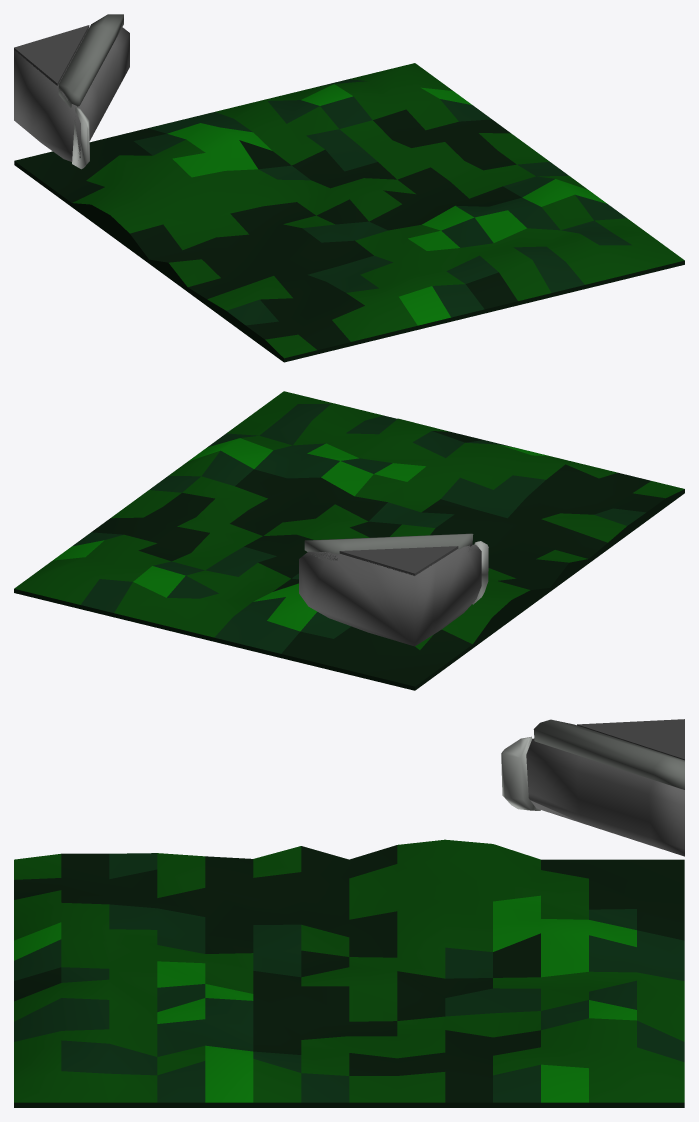
File: newshg-205.glb
3 renders of one model, top to bottom at view 1: azimuth 30°, elevation 25°; view 2: azimuth 150°, elevation 25°; view 3: azimuth 270°, elevation 25°, orthographic. The views are drawn at different scales.
Parts seen in each view (by area): view 1: newshg-205; view 2: newshg-205; view 3: newshg-205.
Boxes of the visible parts, x1,y1,x2,y2 form: newshg-205: [14, 14, 684, 362]; newshg-205: [14, 391, 684, 690]; newshg-205: [14, 719, 684, 1107].
Size of the model in its own units: 2 by 0.6076 by 2.33.
